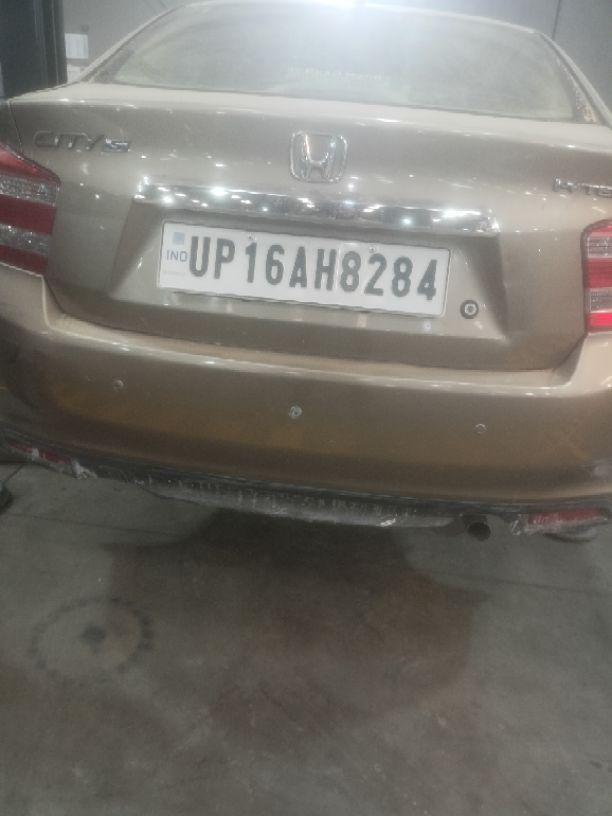license_plate: (155, 218, 451, 319)
